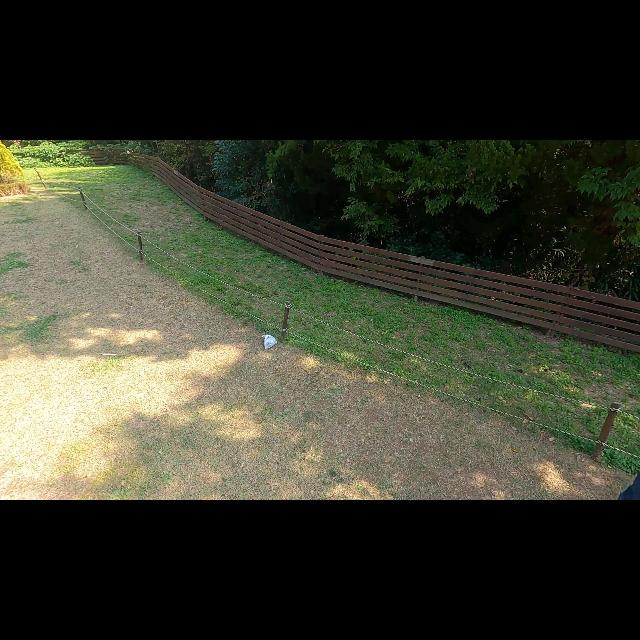trash: (262, 334, 278, 350)
